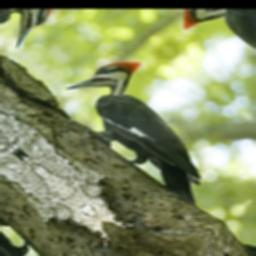Woodpecker: (50, 46, 256, 212)
